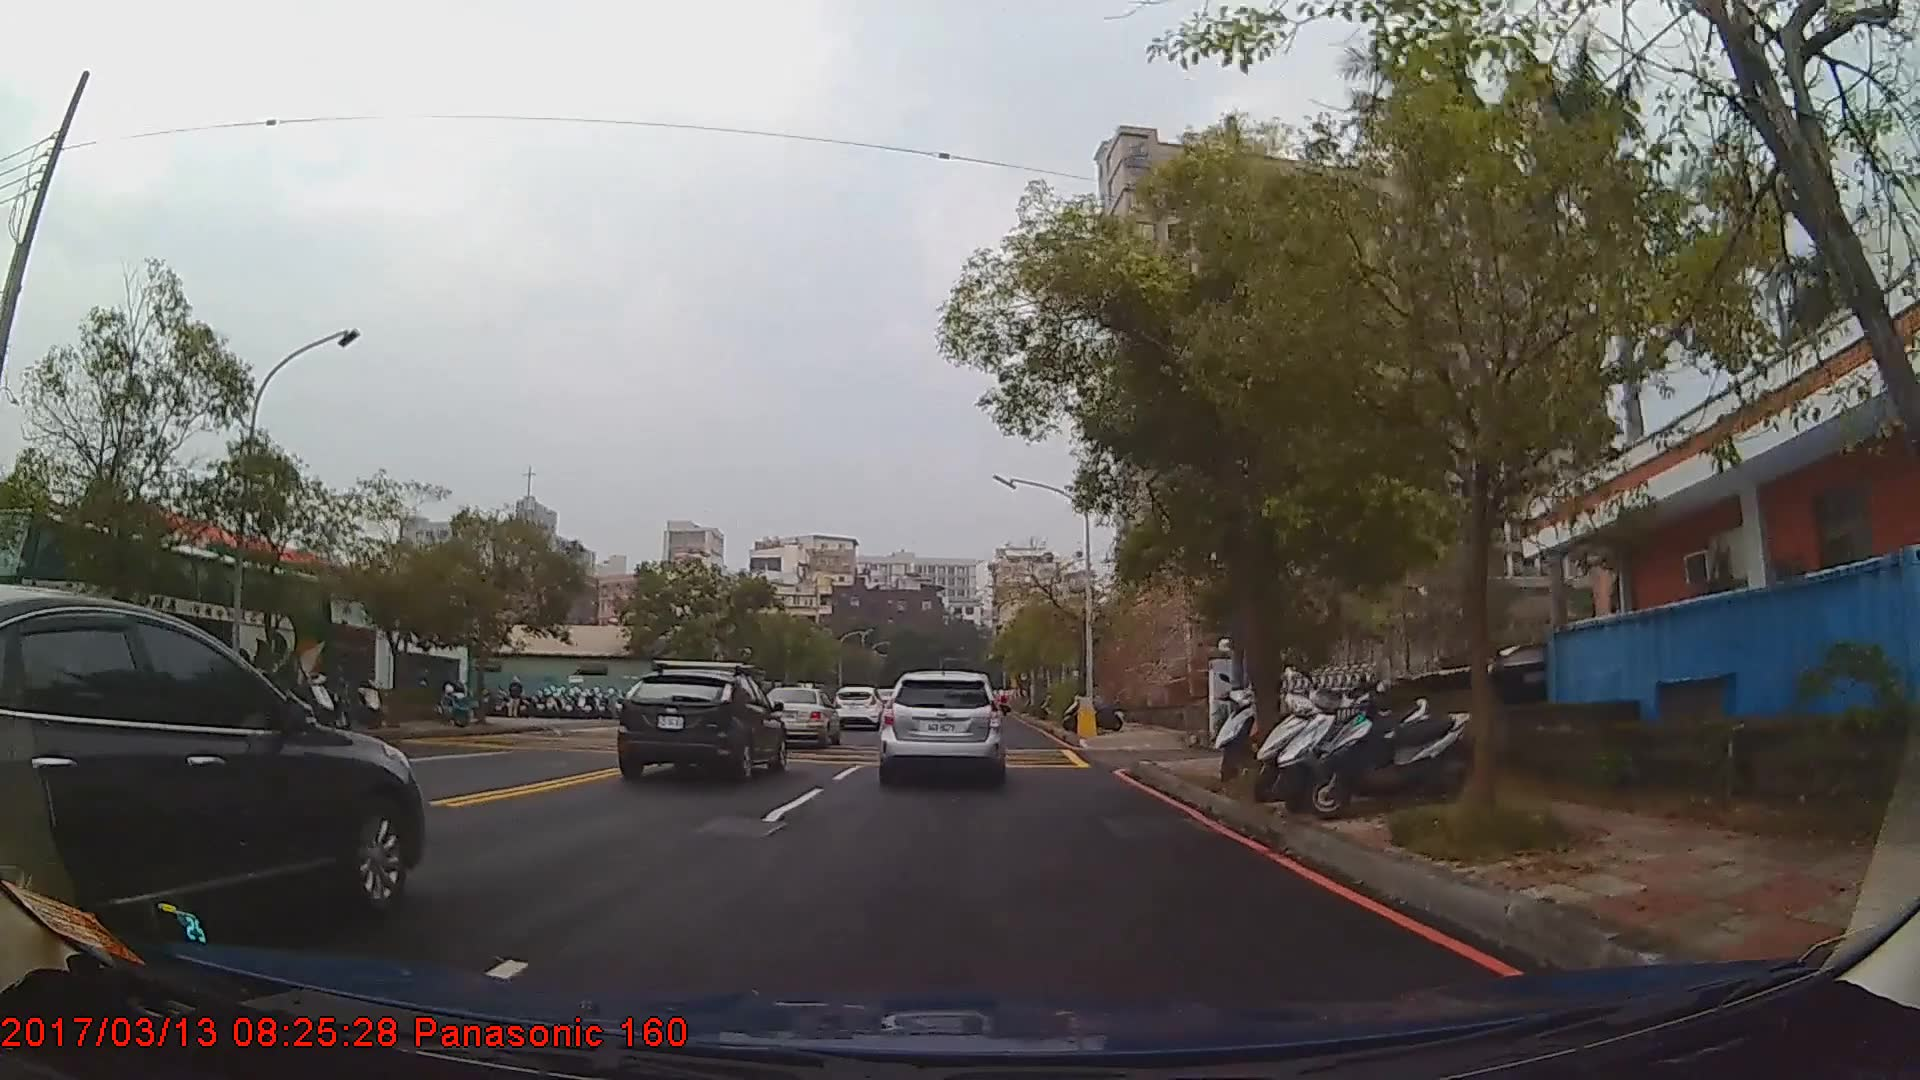vehicle: (0, 585, 423, 957), (0, 506, 326, 742), (615, 667, 787, 785), (880, 669, 1004, 789), (757, 684, 839, 748), (829, 683, 882, 728)
